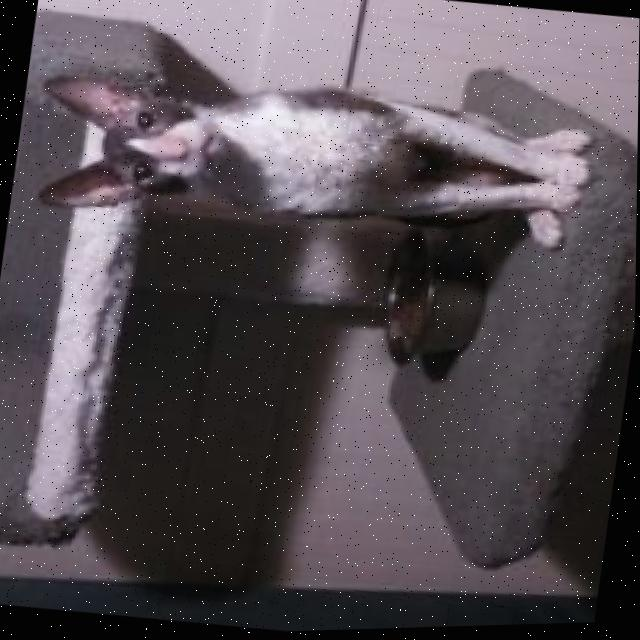Cornish Rex: (19, 41, 612, 280)
